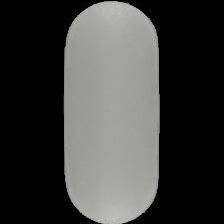55154-7676: (0, 0, 224, 224)
